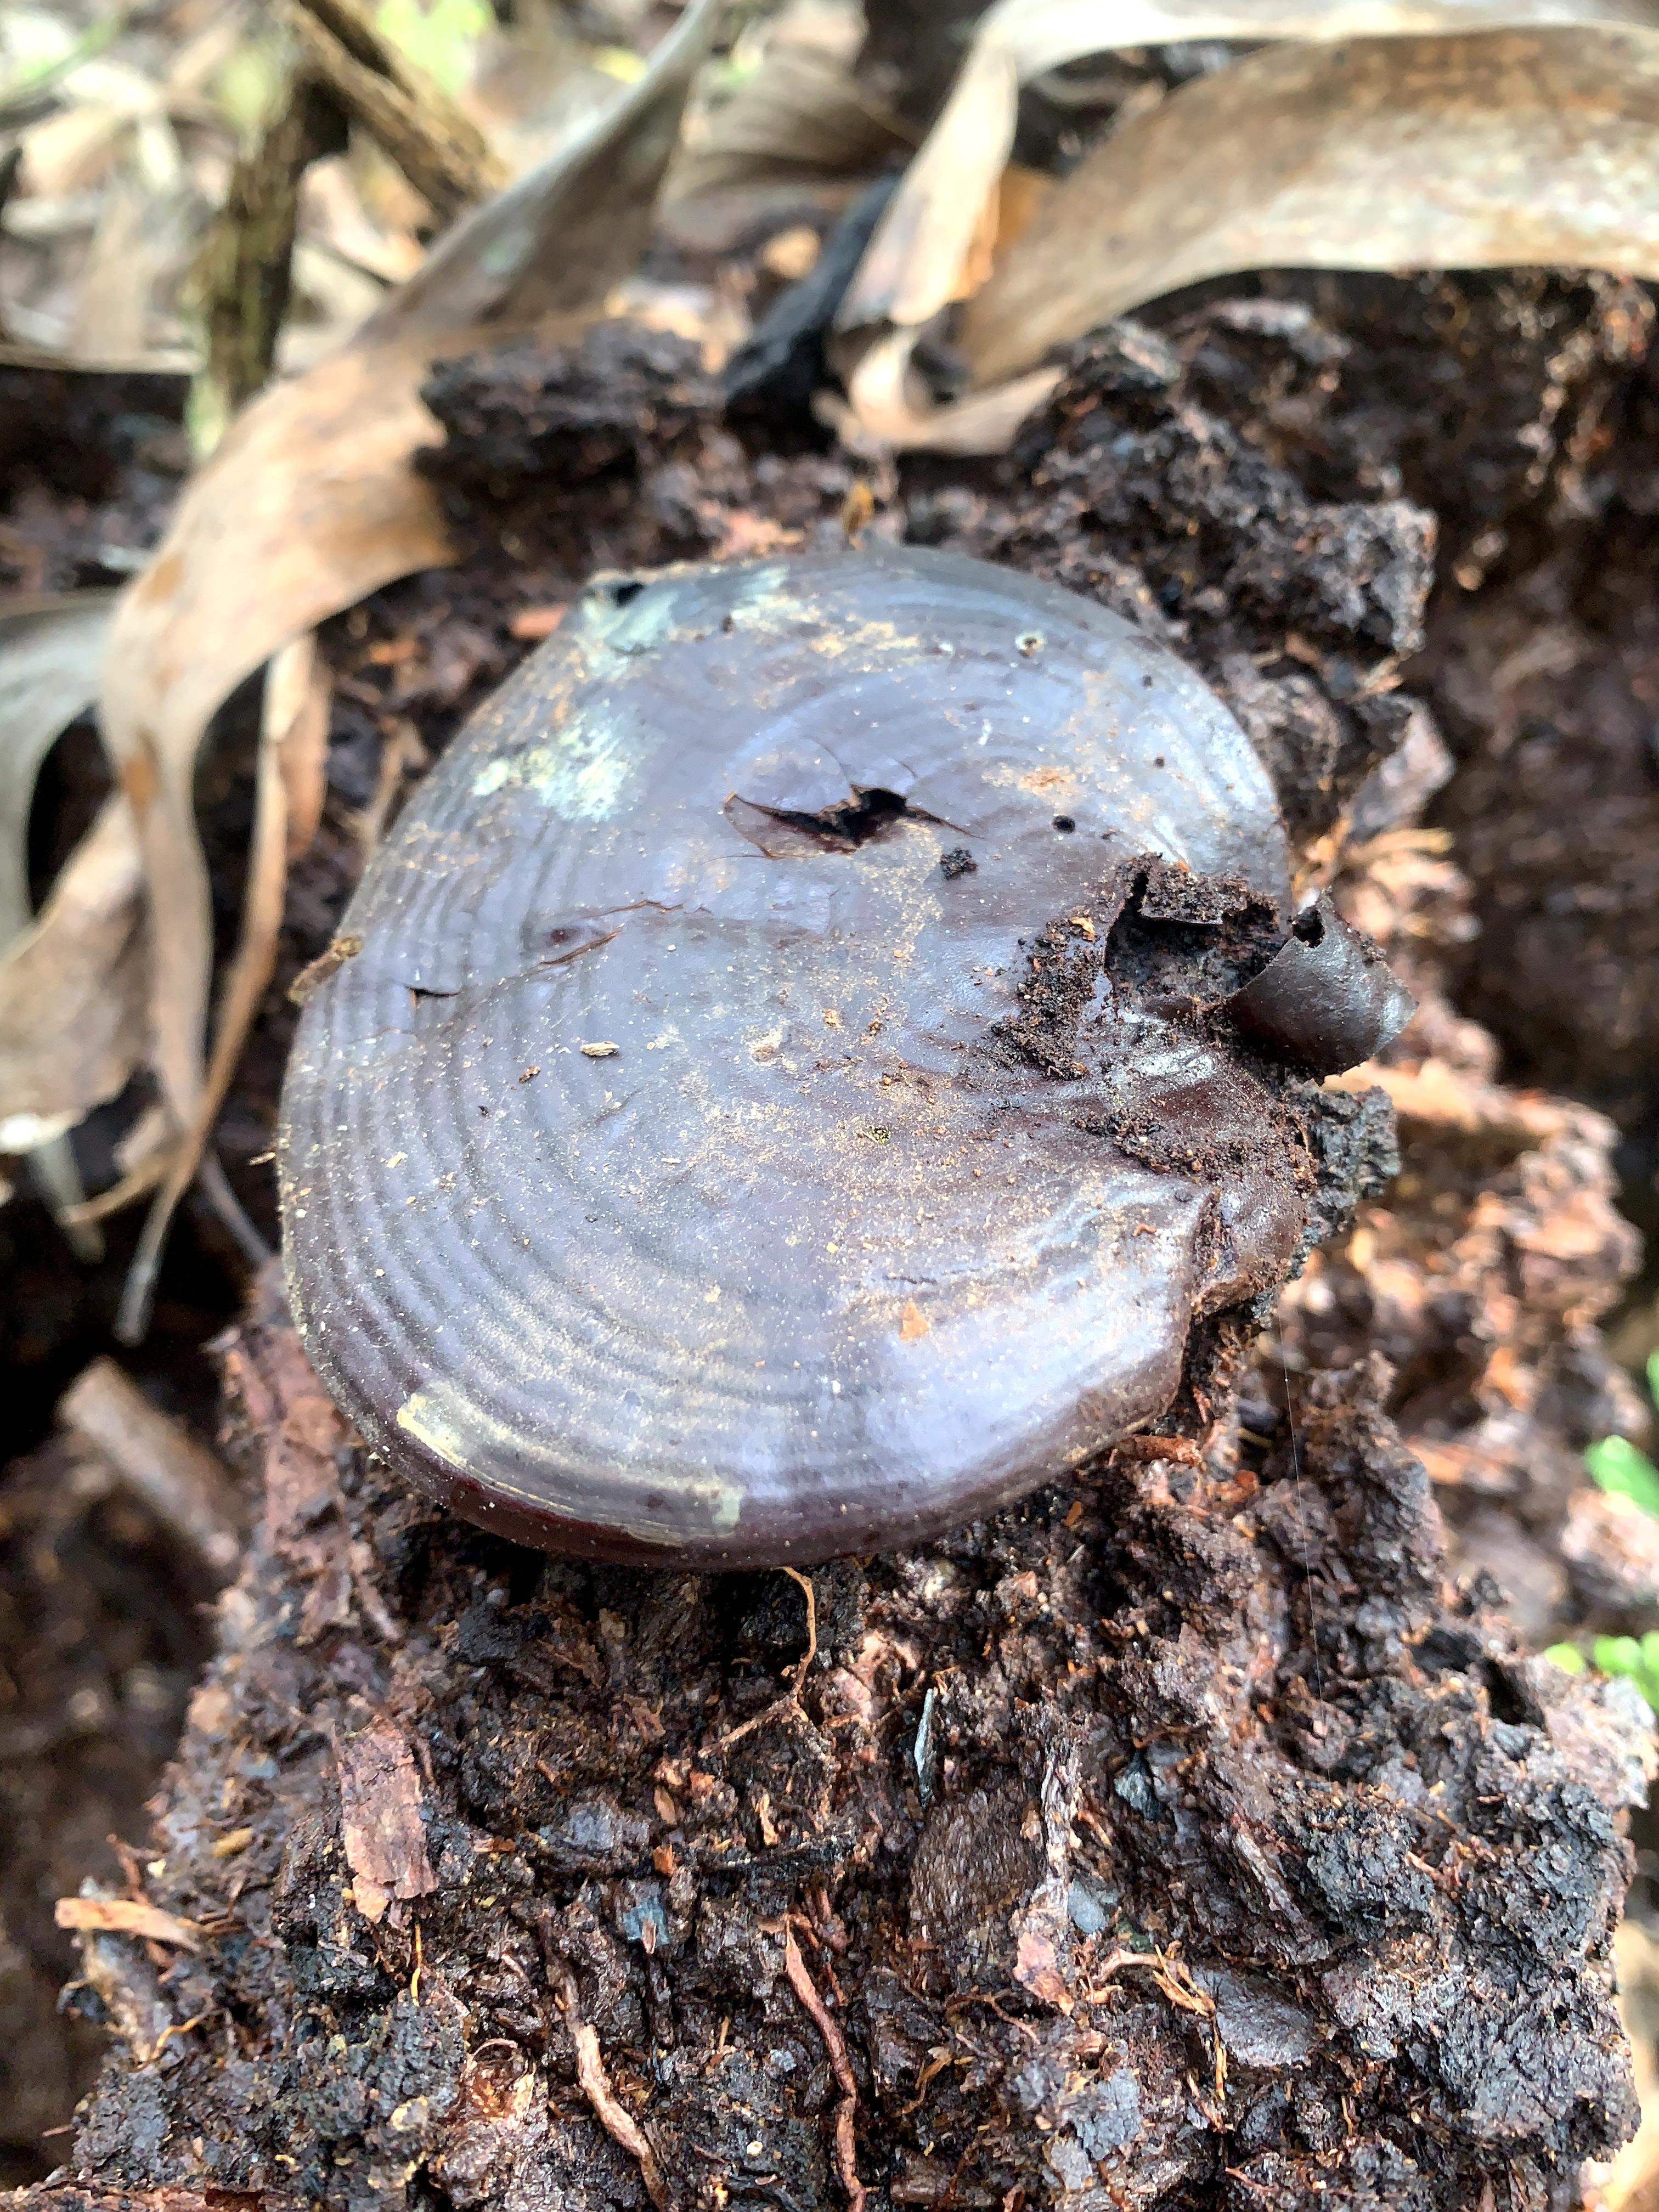Ganoderma - Fruit Body: (293, 505, 1307, 1566)
